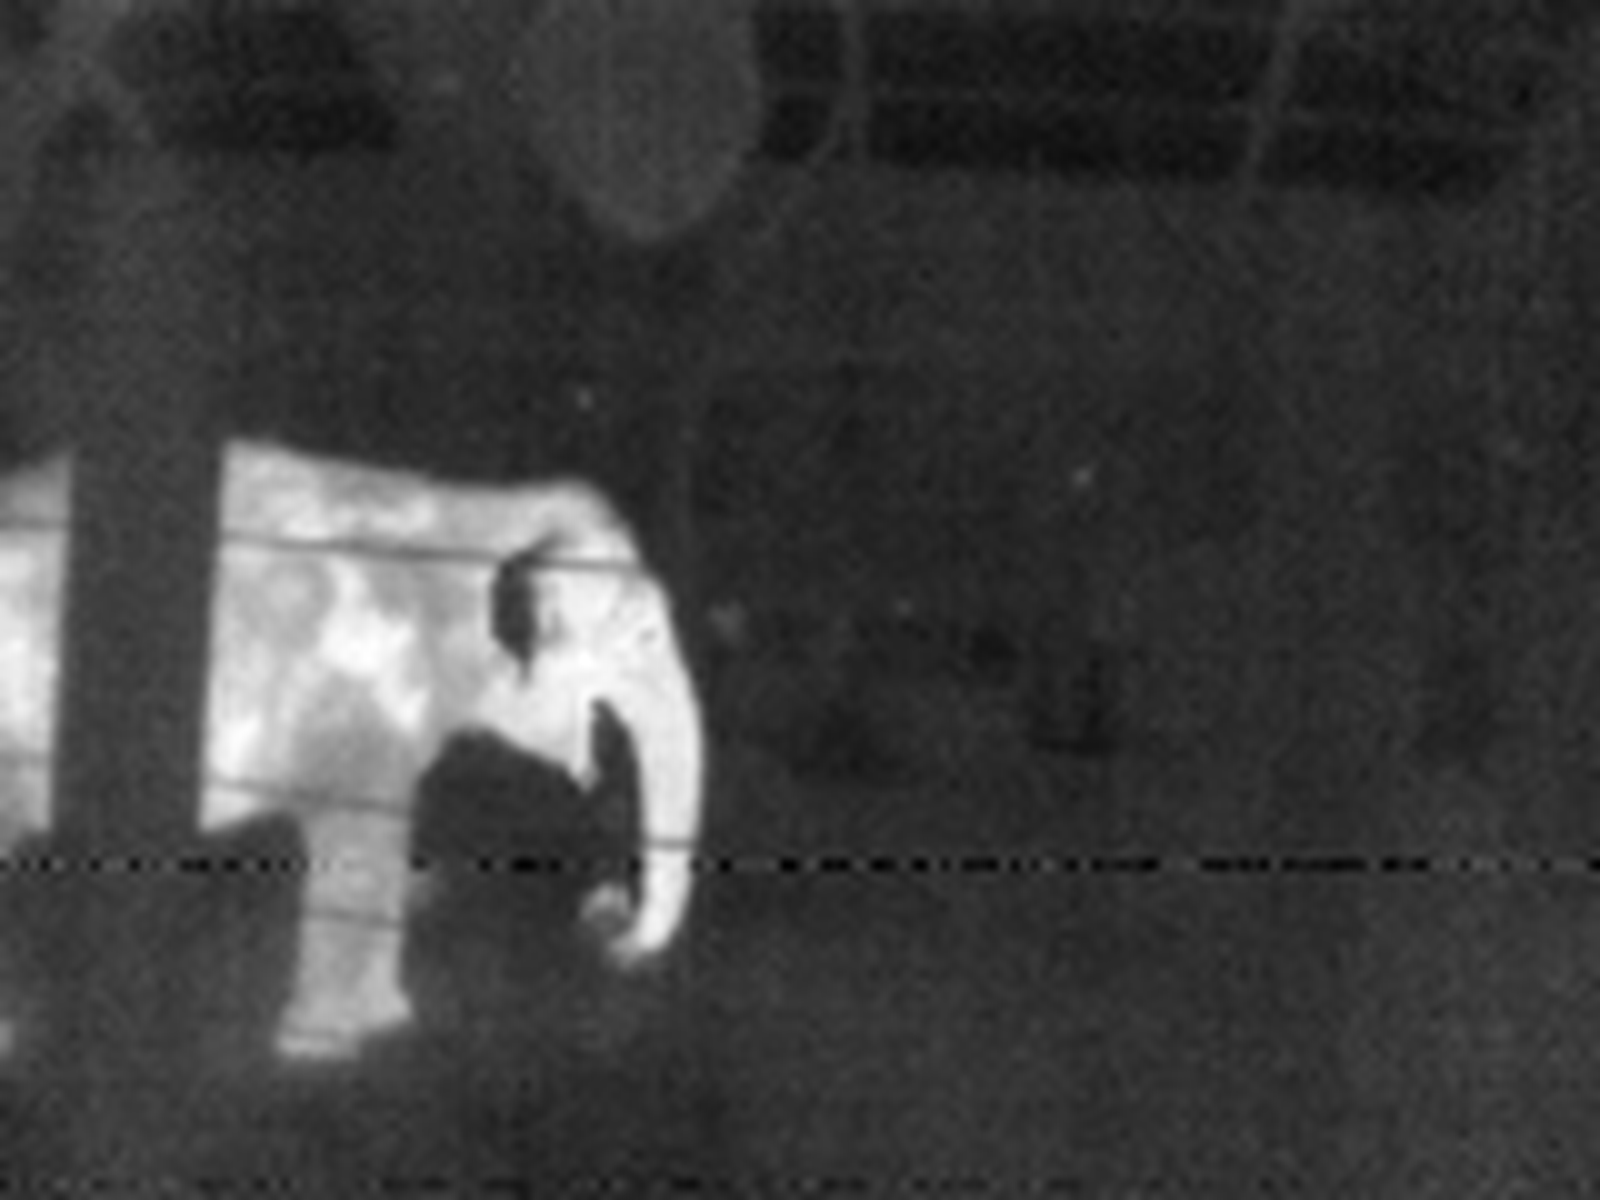elephant: (1, 434, 716, 1063)
